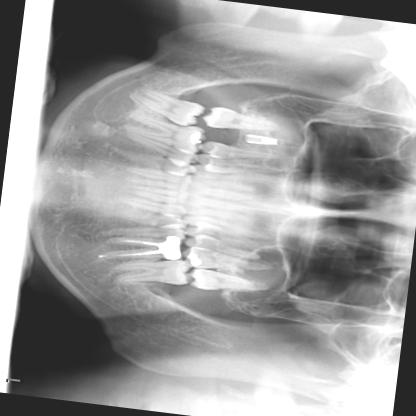Bicon: (242, 130, 280, 147)
